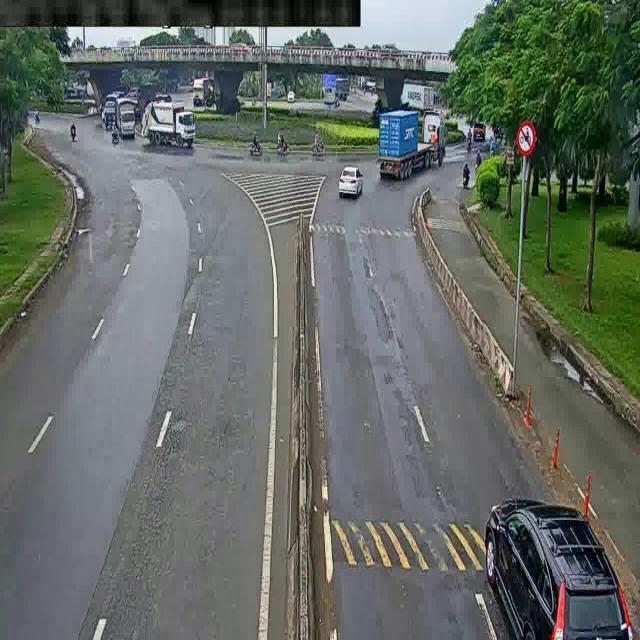car: (461, 472, 619, 640), (337, 163, 362, 200), (286, 86, 298, 104)
motorbike: (247, 133, 269, 157), (30, 109, 49, 132), (307, 135, 325, 157), (275, 132, 290, 156), (61, 119, 80, 136), (486, 140, 503, 158), (462, 156, 470, 188), (473, 148, 485, 169), (466, 130, 474, 150)
truck: (375, 107, 449, 185), (141, 94, 211, 159), (111, 94, 141, 138), (99, 95, 126, 129), (326, 70, 352, 97), (192, 77, 215, 106)
